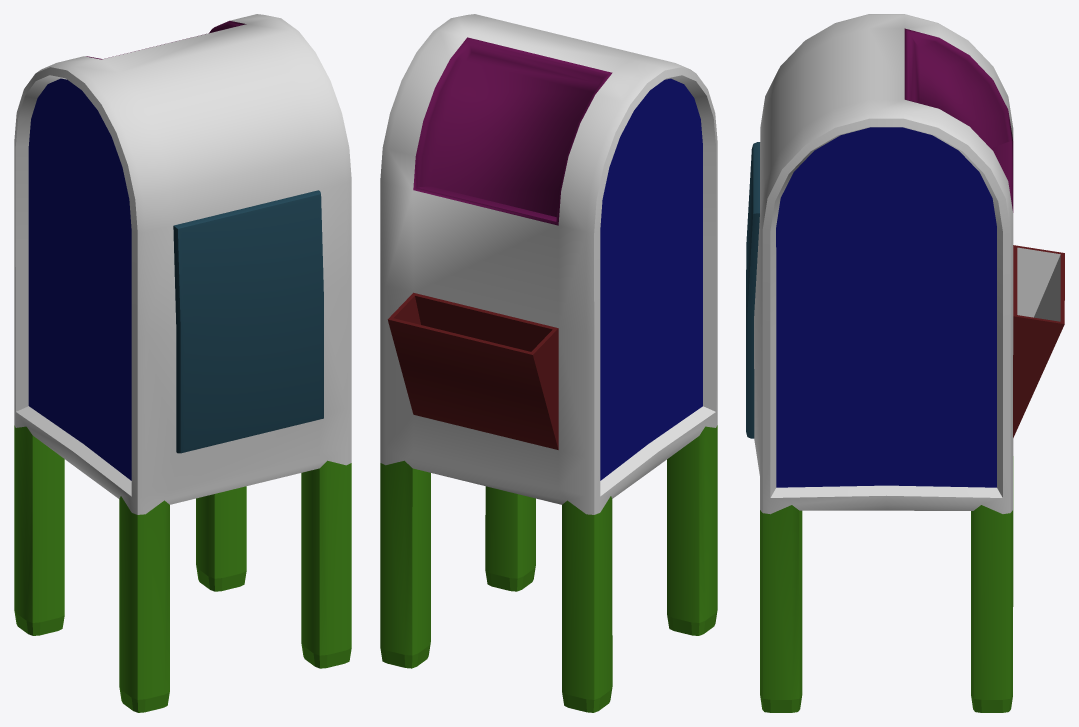
Rendered from MailBox_Lo.fbx.
3 renders of one model, left to right at view 1: azimuth 30°, elevation 25°; view 2: azimuth 150°, elevation 25°; view 3: azimuth 270°, elevation 25°, orthographic.
Visible parts, largest first — view 1: Box004; view 2: Box004; view 3: Box004.
Part boxes in pixels (bbox=[...]): Box004: bbox=[14, 14, 351, 712]; Box004: bbox=[380, 14, 717, 712]; Box004: bbox=[746, 14, 1064, 712].
Bounding box in the file's own units: 60 × 156 × 75.58.
